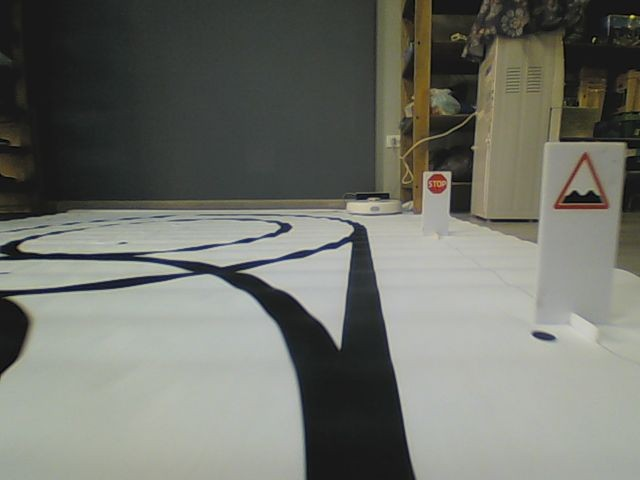Nerov: (551, 151, 612, 212)
Stop: (425, 172, 448, 195)
